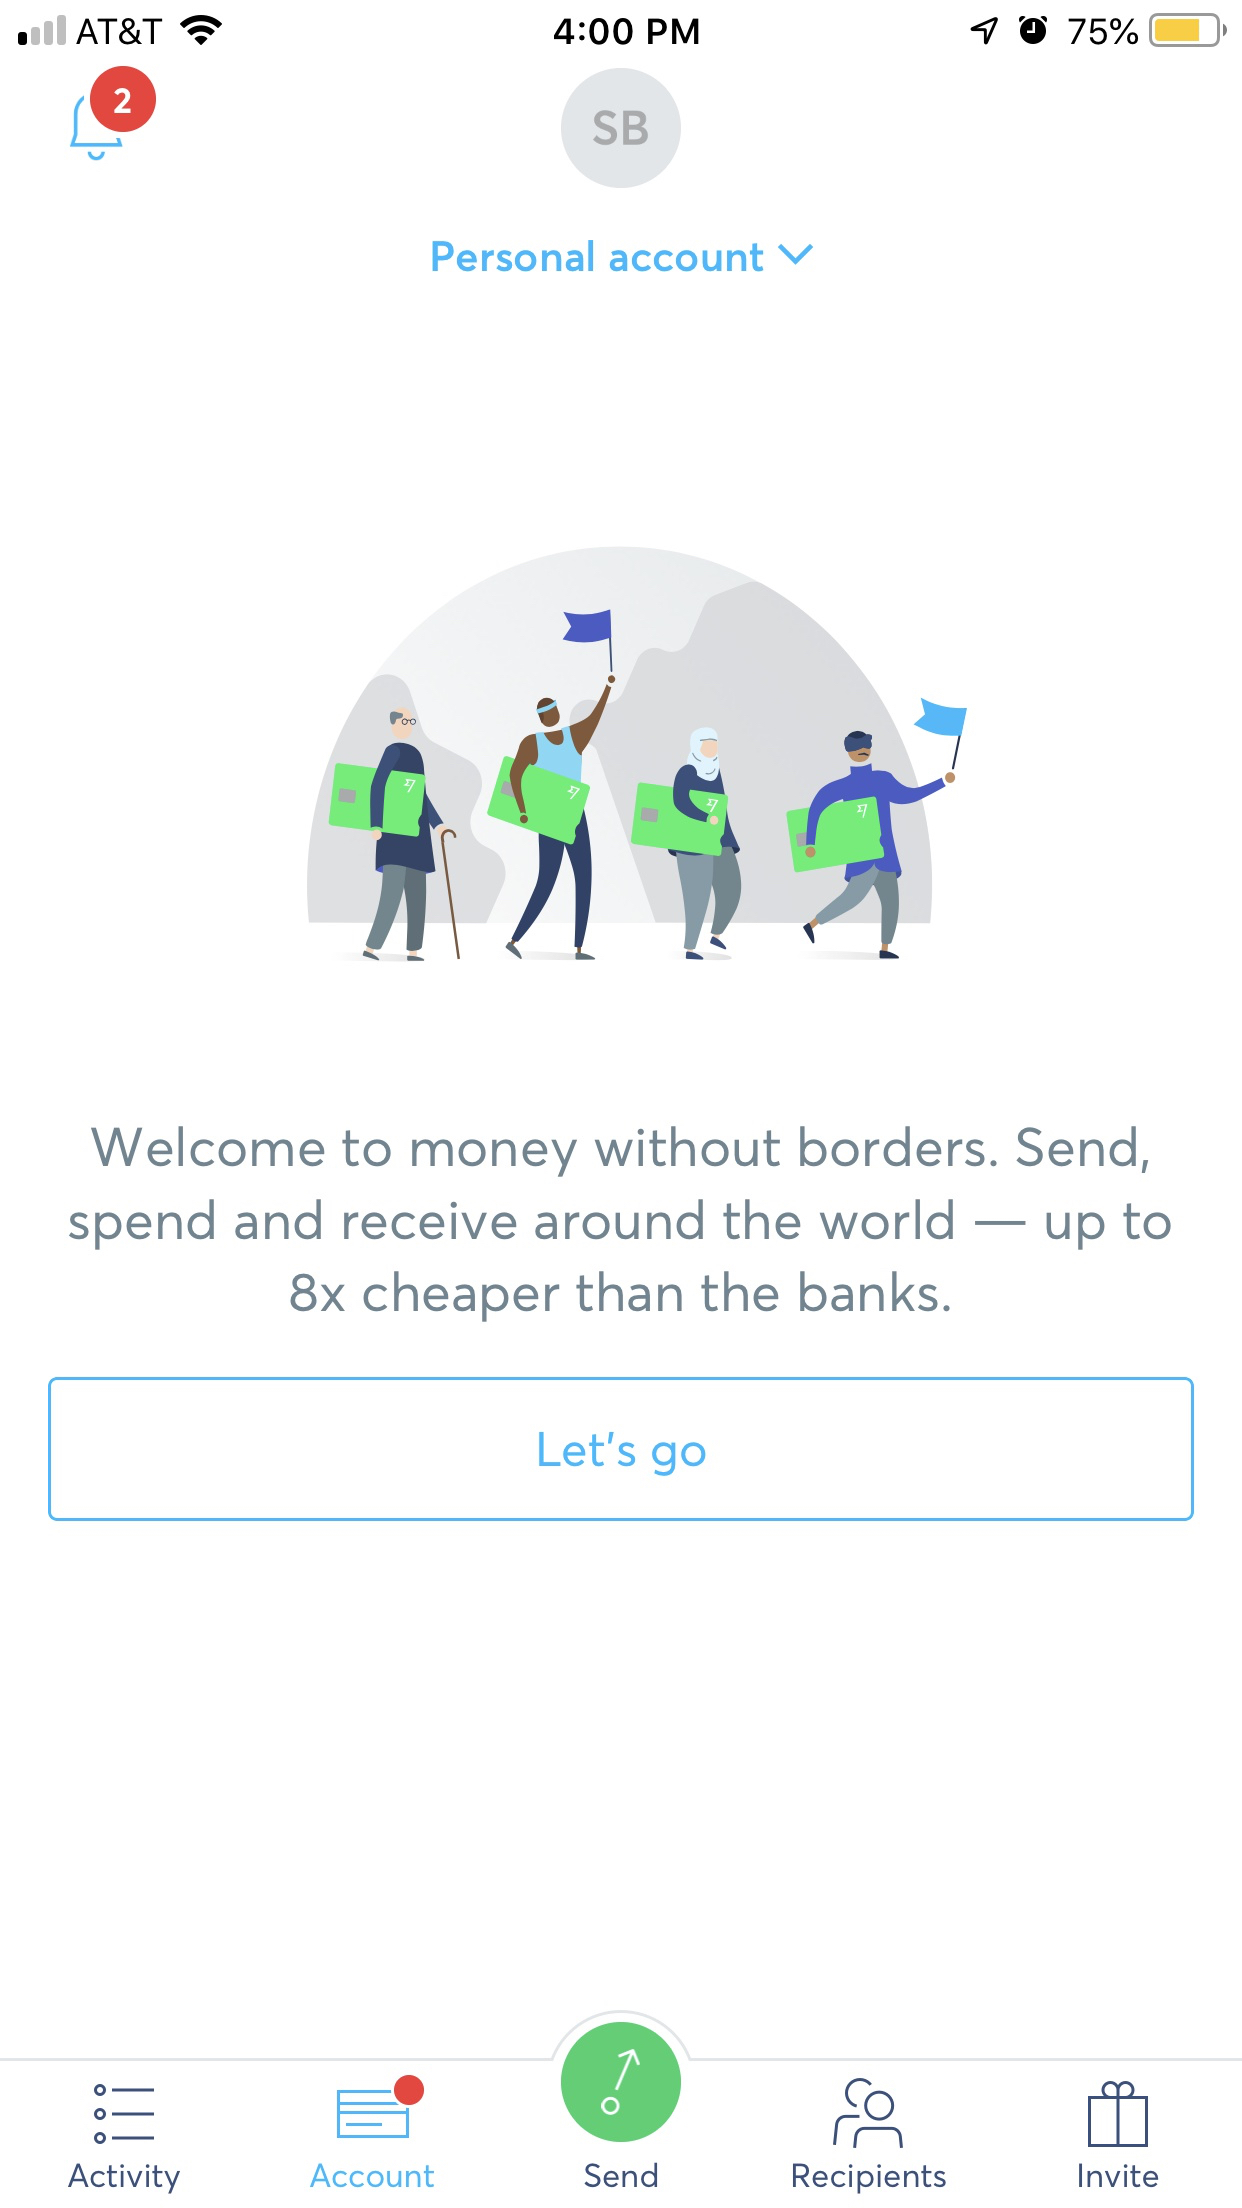Icon: (560, 2021, 682, 2141), (70, 67, 158, 162), (337, 2075, 425, 2138), (833, 2078, 904, 2149), (1087, 2081, 1149, 2147), (94, 2084, 156, 2144), (778, 244, 814, 265)
Image: (306, 538, 971, 963), (561, 68, 682, 190)
Text: (70, 1125, 1172, 1322), (432, 240, 764, 273), (792, 2163, 946, 2194), (68, 2163, 182, 2194), (309, 2163, 435, 2188), (1078, 2163, 1159, 2188), (584, 2161, 660, 2188)
TextButton: (49, 1377, 1195, 1523)
UpperTaskBar: (2, 2, 1242, 49)
